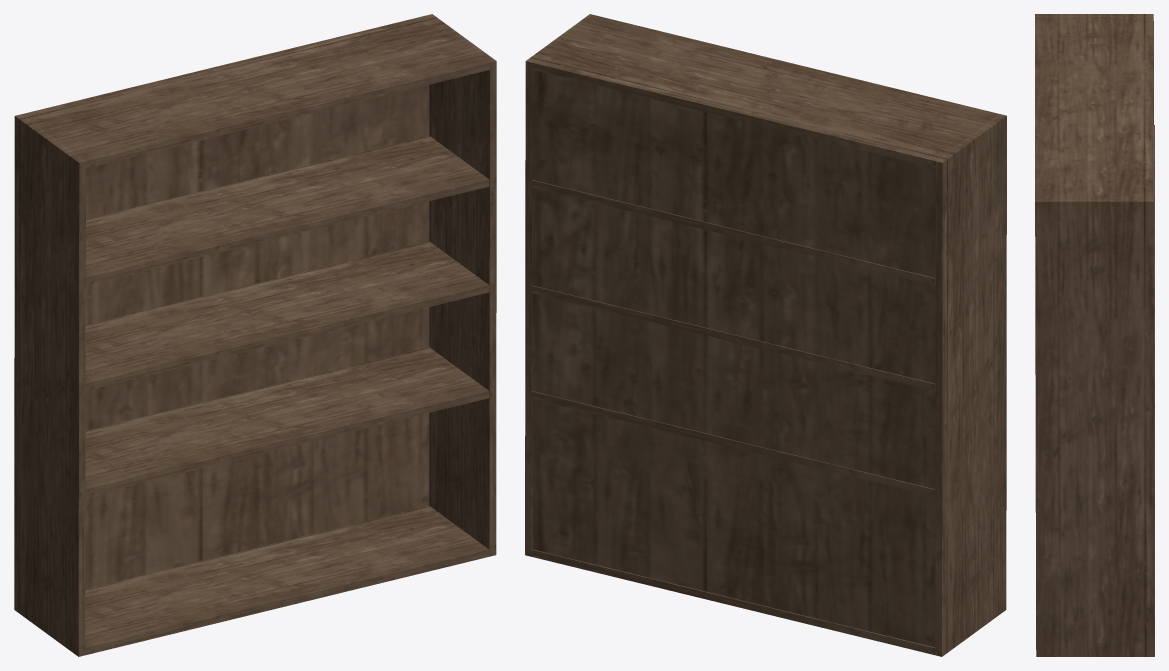
The model's file is cabin01w.fbx.
The picture shows the model from 3 angles, left to right: view 1: azimuth 30°, elevation 25°; view 2: azimuth 150°, elevation 25°; view 3: azimuth 270°, elevation 25°; orthographic projection. The views are drawn at different scales.
Visible parts, largest first — view 1: cabin01w; view 2: cabin01w; view 3: cabin01w.
Part boxes in pixels (x1,y1,x2,y2): cabin01w: (14, 14, 496, 656); cabin01w: (525, 14, 1006, 656); cabin01w: (1035, 14, 1154, 656).
Bounding box in the file's own units: 124 × 140 × 33.45.
